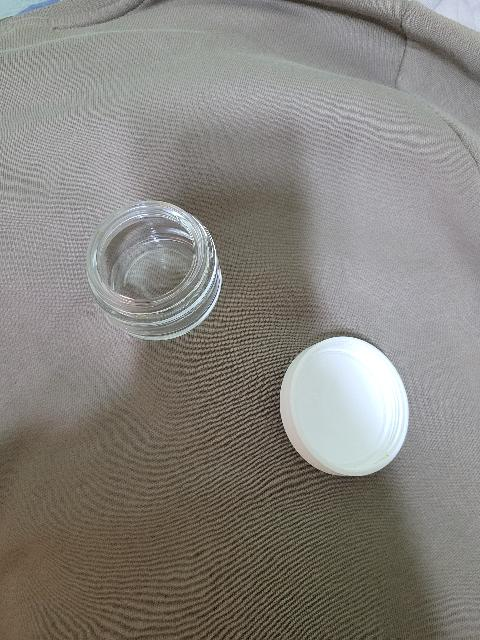Cam: (78, 203, 250, 349)
Plastik: (278, 330, 423, 487)
